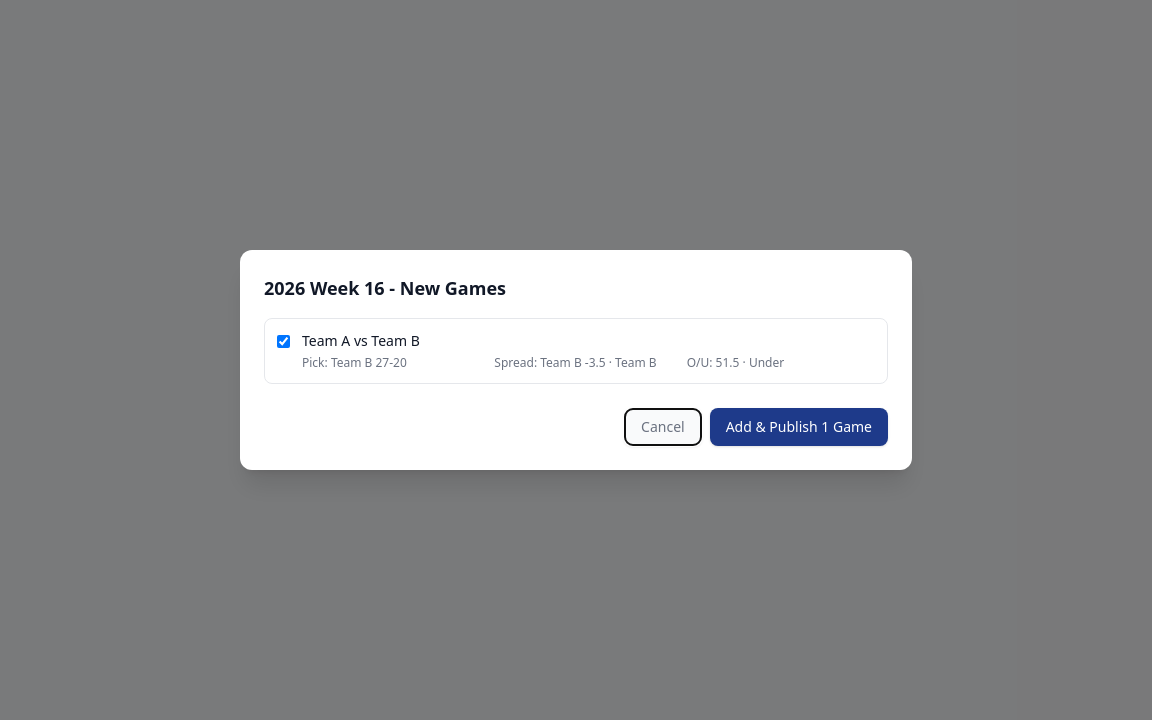
Test: NewGamesModal › disables the add button once every game is unchecked
What coordinates should you click on to do the following:
click the checkbox labelled "Team A vs Team B"
I would click on:
 (284, 342)
Its box is [277,335,290,348].
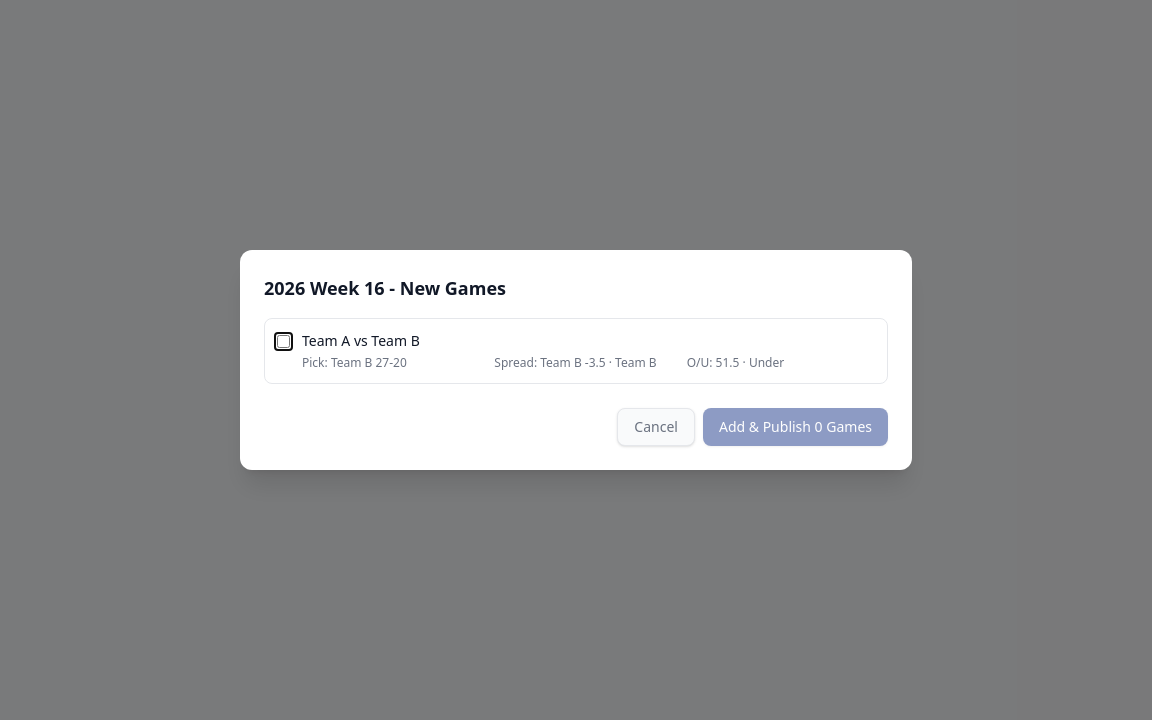
Check: the button "Add & Publish 0 Games" is disabled, box [703,408,888,446]
